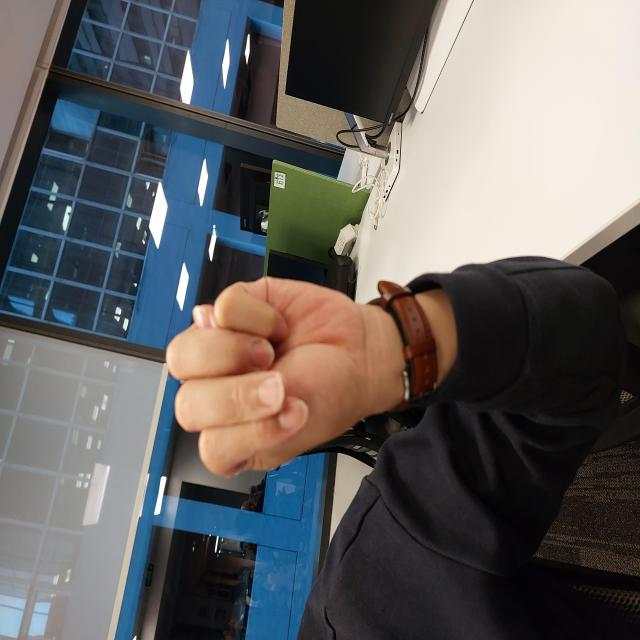M: (161, 164, 363, 354)
